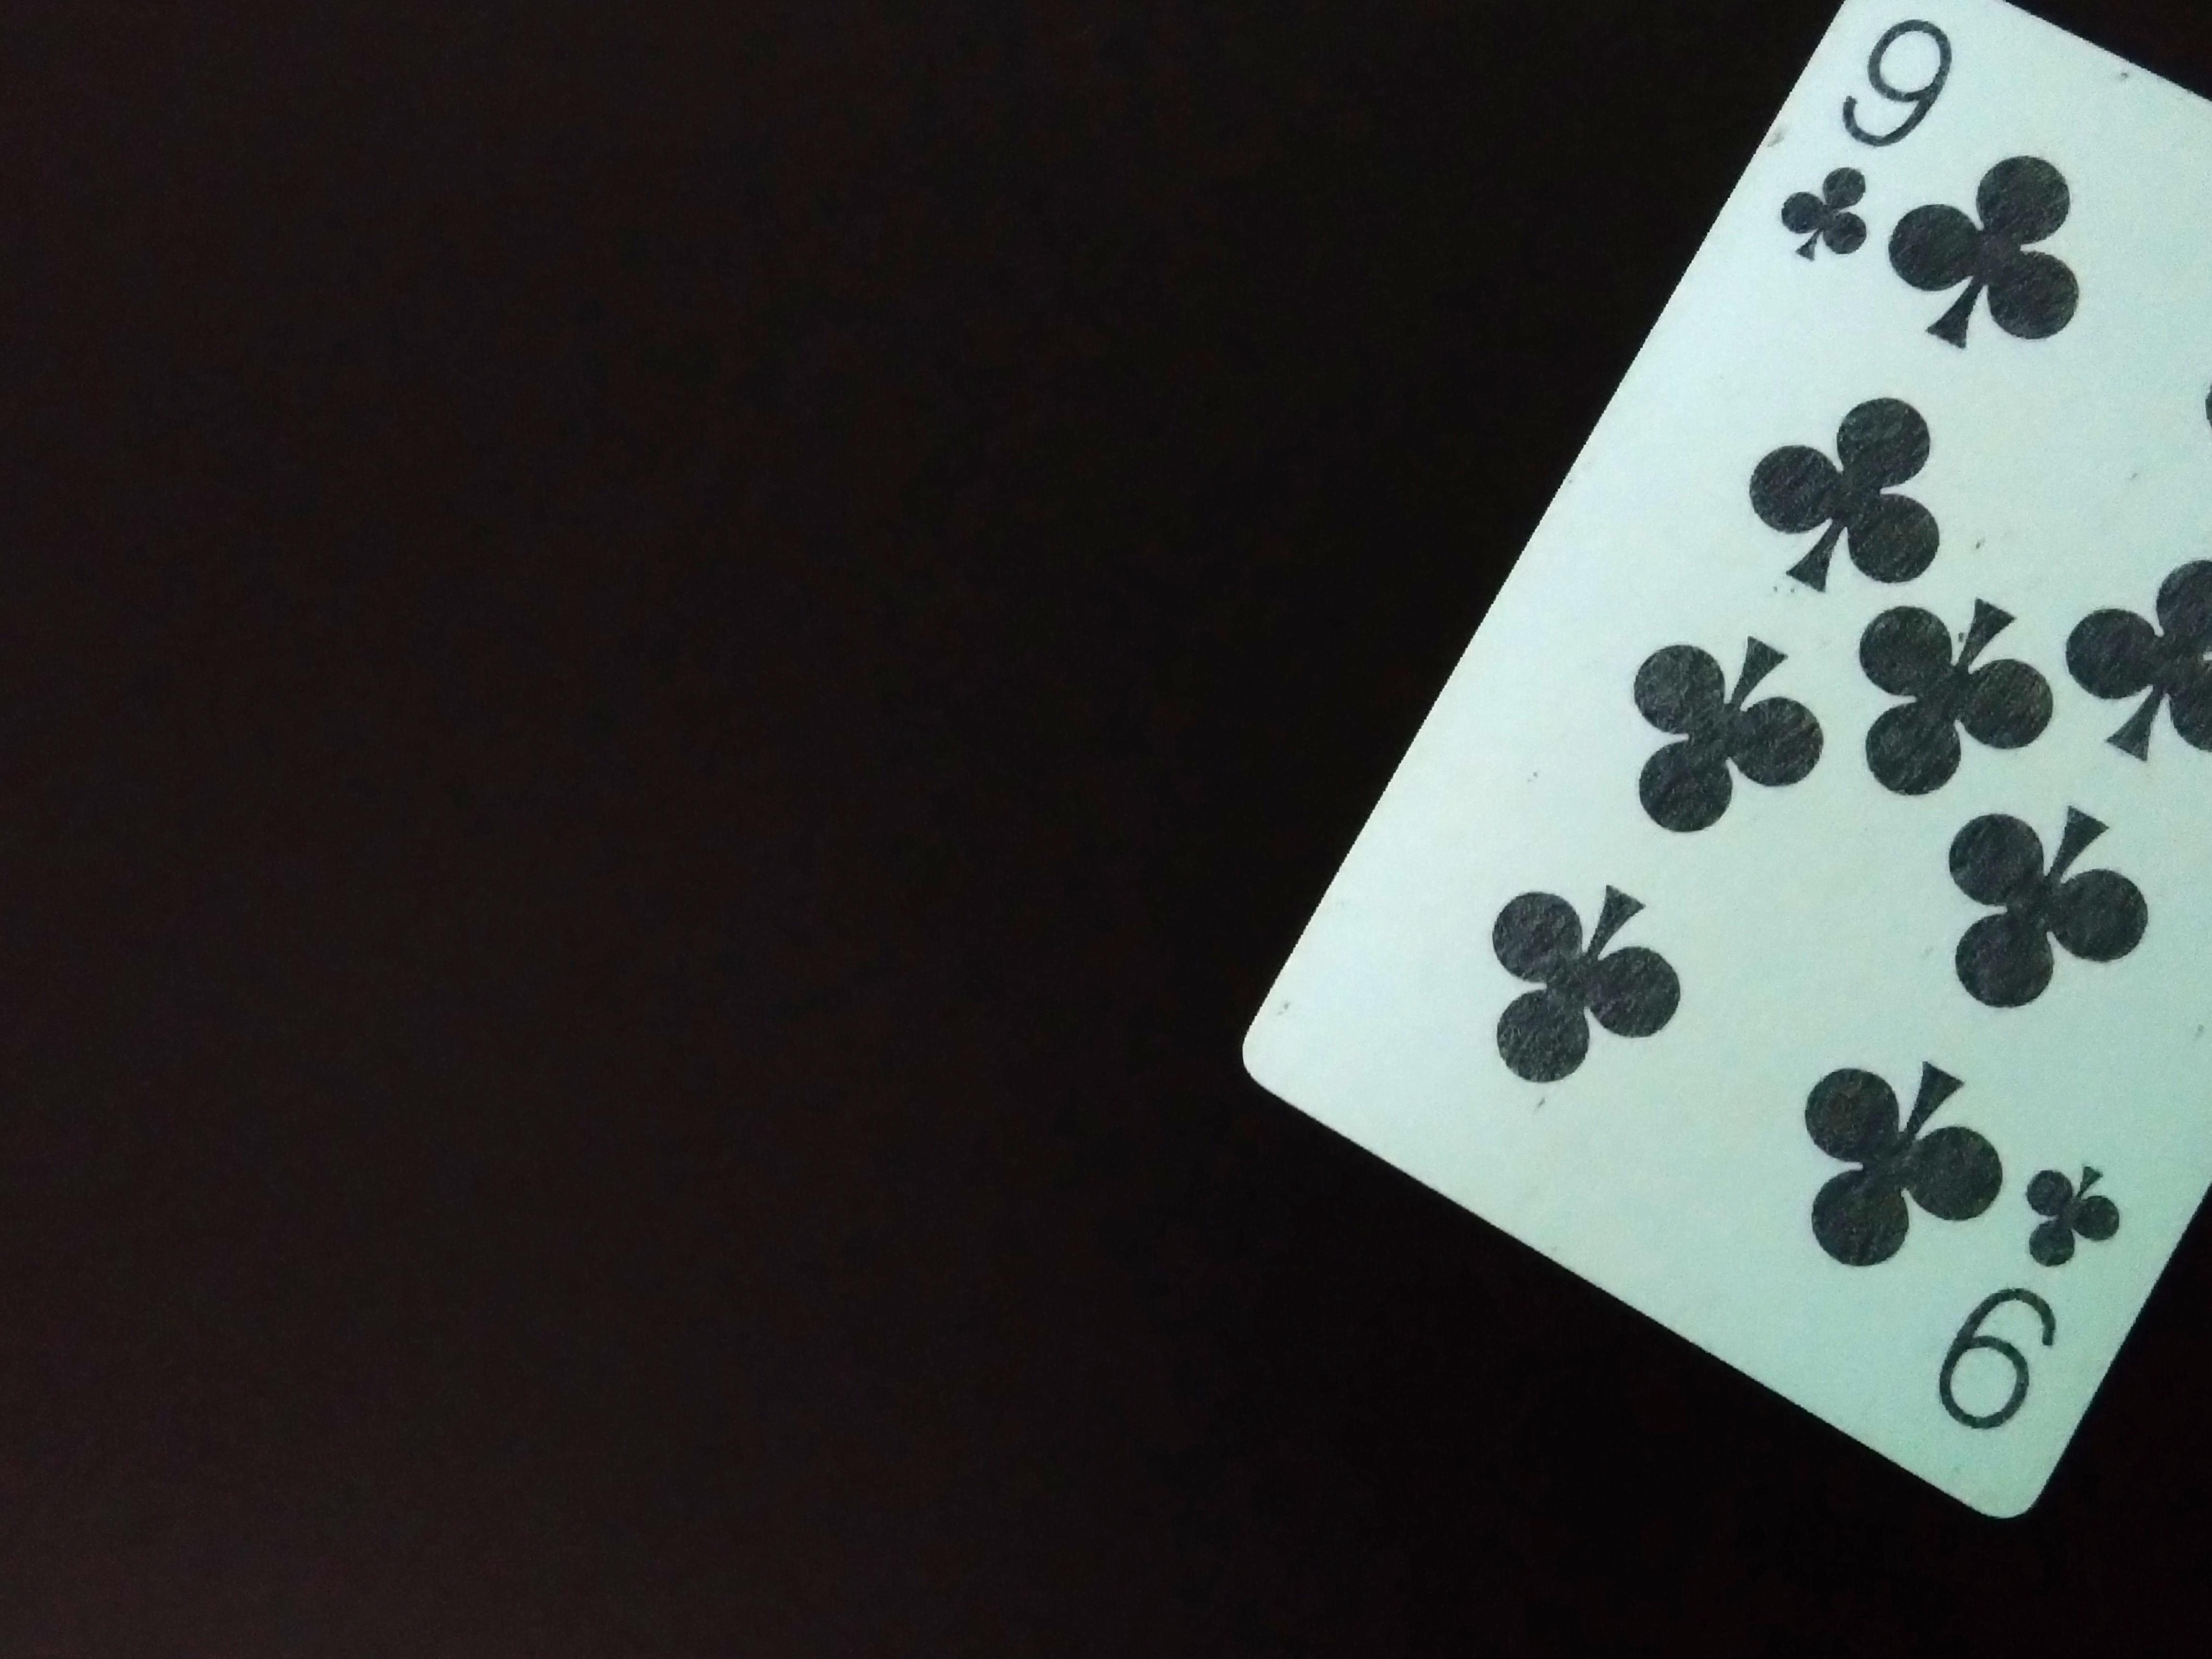9C: (1947, 1140, 2139, 1425)
